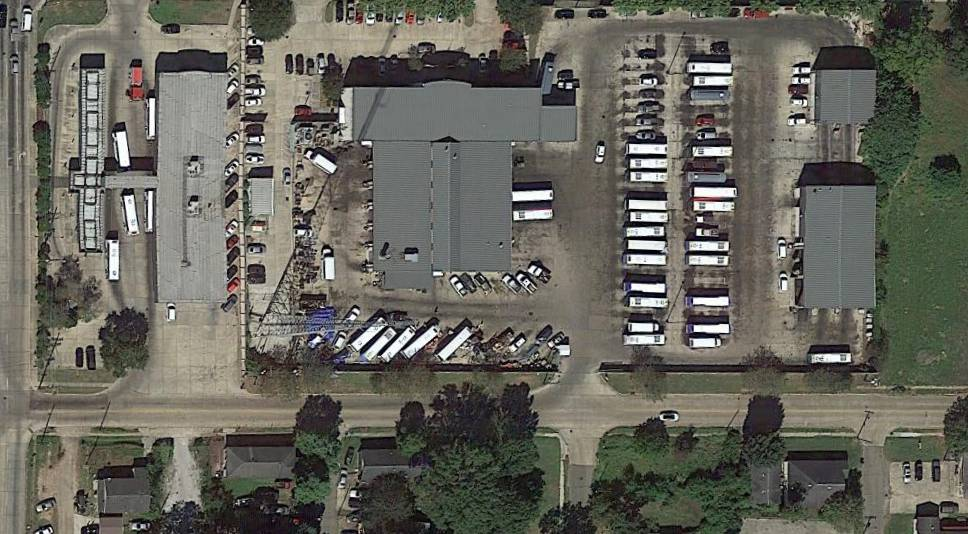large vehicle: (350, 315, 390, 353), (438, 325, 475, 362), (382, 326, 417, 364), (362, 327, 398, 363), (403, 325, 440, 359), (306, 148, 339, 176), (122, 194, 141, 237), (105, 240, 121, 281), (688, 61, 734, 75), (116, 130, 132, 168), (626, 253, 667, 267), (513, 208, 554, 222), (694, 186, 738, 199), (694, 75, 734, 89), (686, 254, 729, 267), (806, 352, 852, 364), (693, 200, 735, 213), (692, 146, 734, 159), (625, 281, 667, 294), (628, 143, 669, 156), (628, 198, 669, 211), (513, 189, 554, 202), (686, 240, 730, 252), (630, 171, 670, 184), (688, 171, 727, 184), (627, 225, 666, 238), (630, 211, 669, 224), (685, 296, 730, 307), (628, 239, 666, 252), (686, 324, 730, 335), (626, 334, 666, 346), (629, 296, 669, 308), (146, 98, 157, 141), (689, 89, 731, 100), (630, 158, 668, 170), (145, 191, 155, 234), (323, 250, 336, 281), (688, 337, 722, 348), (629, 323, 660, 333)
small vehicle: (526, 262, 553, 286), (516, 270, 540, 296), (340, 305, 363, 330), (449, 274, 470, 300), (501, 272, 524, 295), (474, 273, 494, 297), (220, 217, 241, 239), (219, 293, 240, 315), (460, 272, 480, 295), (221, 172, 241, 193), (223, 246, 242, 268), (220, 189, 240, 209), (330, 329, 348, 351), (222, 158, 240, 179), (20, 7, 34, 33), (222, 131, 241, 150), (222, 264, 241, 283), (223, 62, 241, 81), (223, 78, 241, 97), (85, 346, 98, 372), (696, 226, 721, 239), (221, 234, 240, 251), (637, 102, 663, 114), (593, 143, 607, 165), (225, 277, 242, 294), (244, 86, 268, 98), (639, 89, 665, 100), (777, 238, 789, 261), (696, 130, 719, 142), (557, 79, 581, 90), (696, 114, 716, 127), (635, 115, 658, 126), (246, 244, 268, 255), (166, 302, 178, 322), (245, 154, 266, 165), (636, 130, 657, 141), (245, 274, 266, 285), (247, 134, 267, 145), (779, 272, 790, 292), (932, 461, 942, 483), (74, 348, 85, 368), (346, 3, 356, 25), (407, 3, 417, 25), (788, 117, 809, 127), (788, 84, 809, 94), (792, 66, 813, 76), (366, 4, 376, 25), (395, 3, 405, 24), (903, 462, 912, 485), (639, 77, 659, 87), (939, 505, 959, 515), (792, 76, 812, 86), (246, 265, 266, 275), (375, 3, 385, 23), (245, 97, 263, 108), (245, 75, 261, 87), (247, 45, 263, 57), (790, 98, 809, 108), (417, 4, 426, 25), (356, 4, 365, 25), (915, 461, 924, 481), (318, 57, 328, 75), (335, 2, 344, 22), (386, 3, 395, 22), (286, 54, 294, 75), (296, 54, 304, 75), (246, 57, 264, 66), (283, 168, 292, 186), (247, 36, 263, 46), (307, 59, 315, 76)
